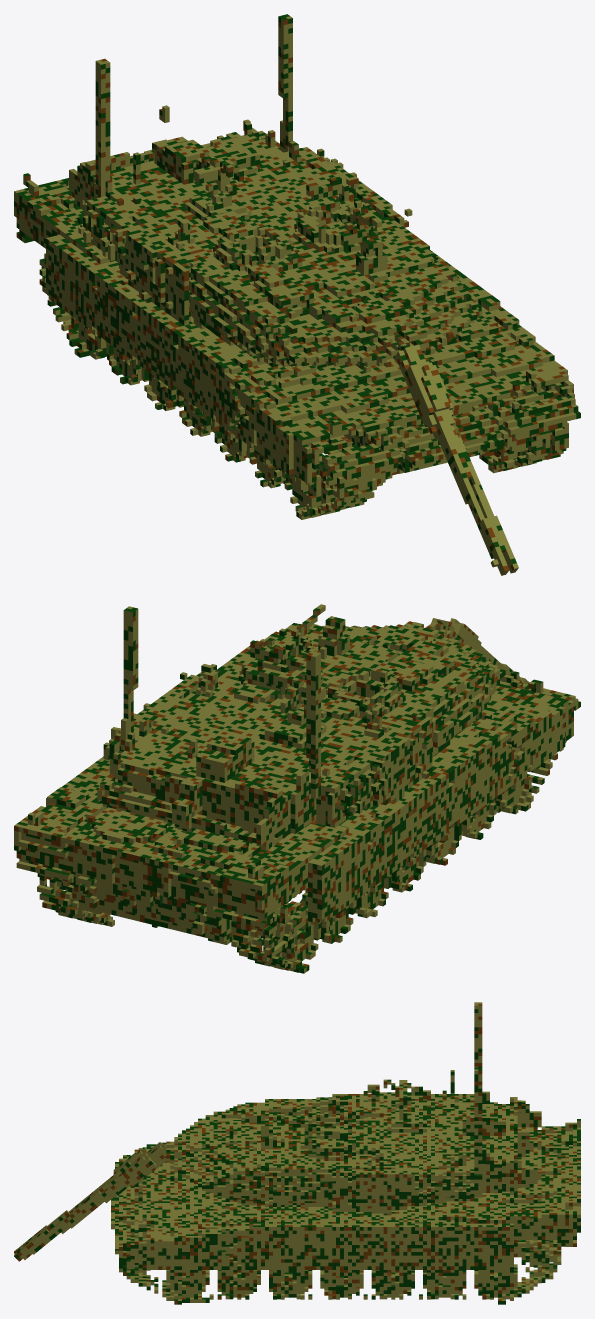
Rendered from Tank.fbx.
The picture shows the model from 3 angles, top to bottom: view 1: azimuth 30°, elevation 25°; view 2: azimuth 150°, elevation 25°; view 3: azimuth 270°, elevation 25°; orthographic projection. The views are drawn at different scales.
Visible parts, largest first — view 1: Tank_01_SP.001; view 2: Tank_01_SP.001; view 3: Tank_01_SP.001.
Boxes of the visible parts, <box> form: Tank_01_SP.001: <box>14,14,580,575</box>; Tank_01_SP.001: <box>14,604,580,973</box>; Tank_01_SP.001: <box>14,1002,580,1304</box>.
Size of the model in its own units: 506 by 517 by 1191.
